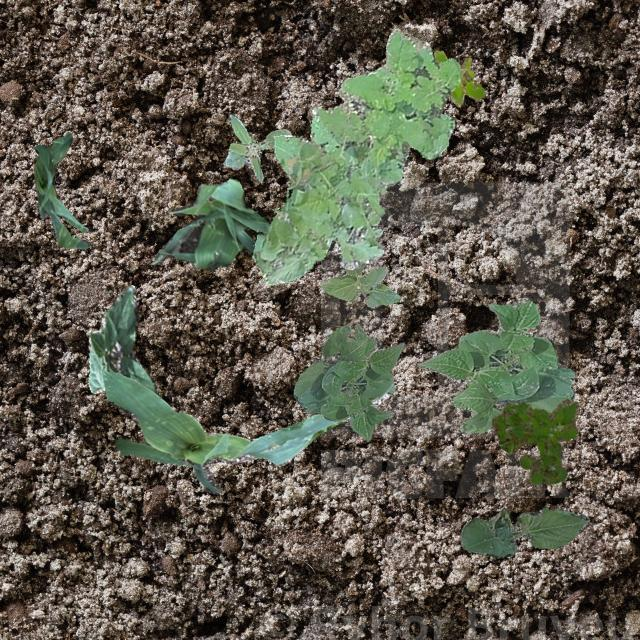crop: (100, 368, 394, 492), (416, 300, 574, 432), (292, 322, 403, 440), (150, 178, 270, 268), (87, 284, 155, 392), (458, 506, 588, 556), (32, 132, 88, 248), (320, 264, 400, 308)
weed: (252, 28, 460, 284), (490, 398, 580, 483), (222, 114, 290, 180), (432, 50, 483, 106)
